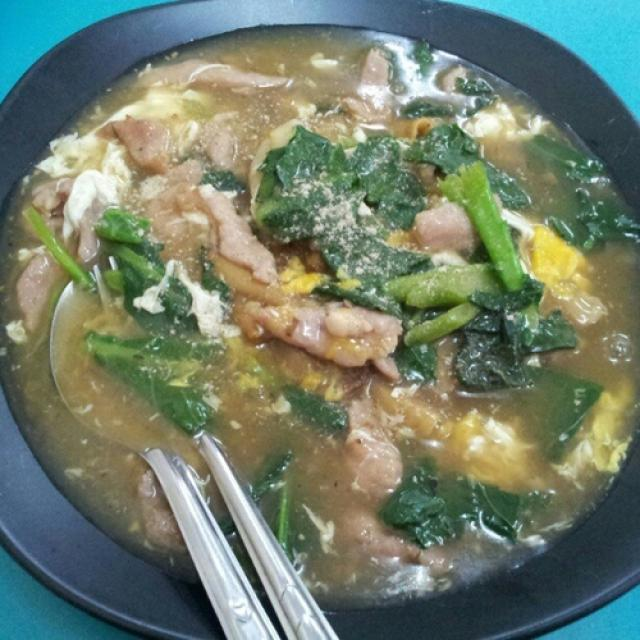面条主食: (27, 37, 617, 616)
